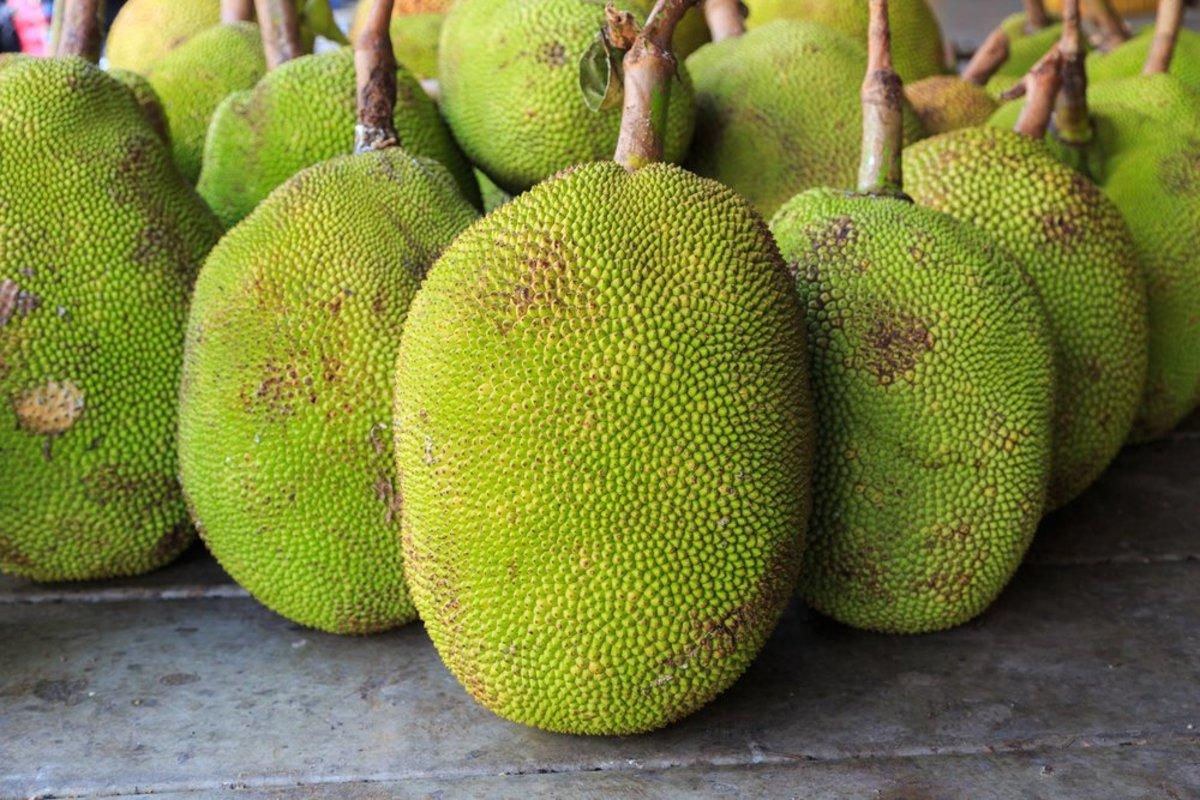chuoi: (399, 168, 822, 733)
